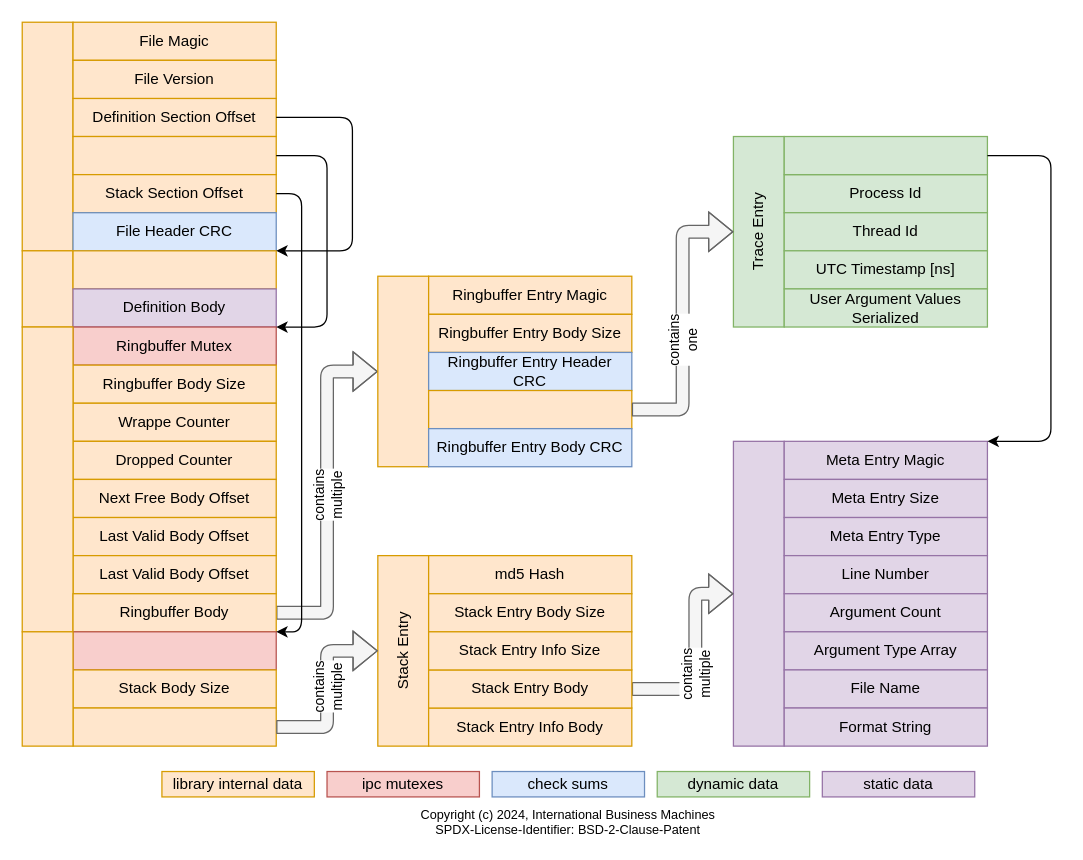
Image size: 1083x860. Some labels were removed from this diagram. The shapes that lost their labels are listed below. From the top down, each one's box as (x1, y1, x2, y2) in pixels, then its label:
(21, 21, 73, 251): File Header
(72, 135, 276, 175): Ringbuffer Section Offset
(783, 135, 987, 175): Meta File Offset
(21, 250, 73, 327): Definition Section
(72, 250, 276, 289): Definition Body Size
(377, 275, 429, 467): Ringbuffer Entry
(427, 389, 632, 429): Ringbuffer Entry Body
(21, 326, 73, 632): Ringbuffer Section
(732, 440, 784, 746): Meta Entry
(72, 631, 276, 670): Stack Mutex
(21, 631, 73, 746): Stack Section
(72, 707, 276, 746): Stack Body
